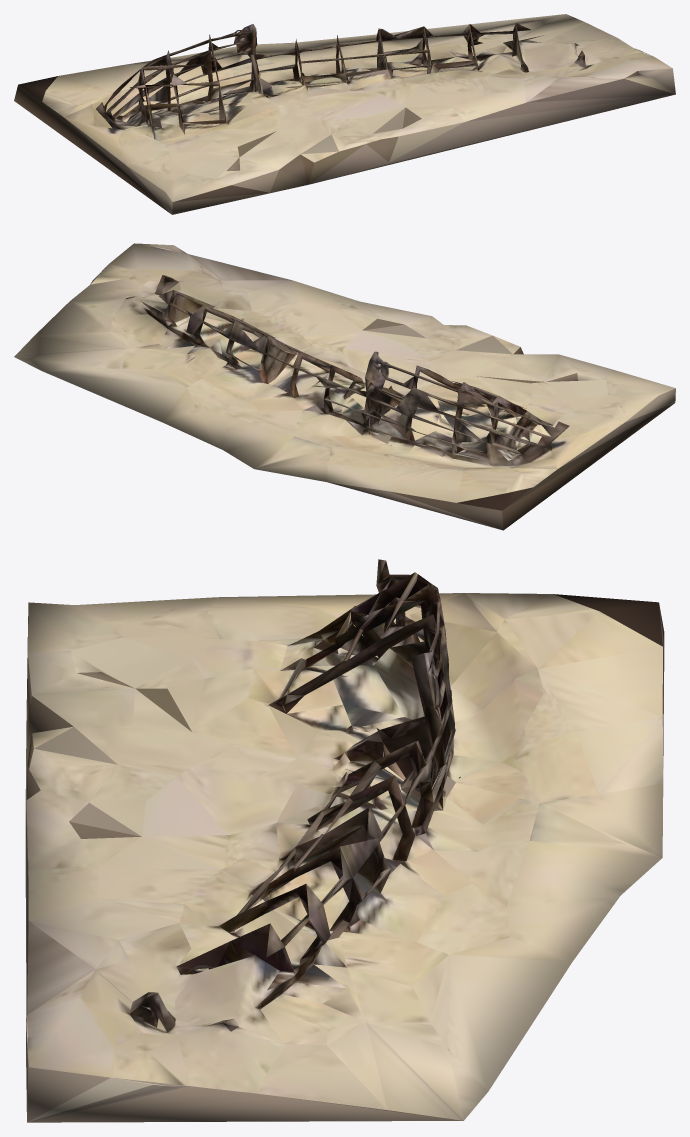
Rendered from shipwreck_lod1.glb.
3 renders of one model, top to bottom at view 1: azimuth 30°, elevation 25°; view 2: azimuth 150°, elevation 25°; view 3: azimuth 270°, elevation 25°, orthographic. The views are drawn at different scales.
Visible parts, largest first — view 1: shipwreck; view 2: shipwreck; view 3: shipwreck.
Boxes of the visible parts, x1,y1,x2,y2 form: shipwreck: (14, 14, 675, 214); shipwreck: (14, 243, 675, 530); shipwreck: (25, 559, 664, 1122).
Bounding box in the file's own units: 26.64 × 3.92 × 14.65.
1 material, 1 textured.
